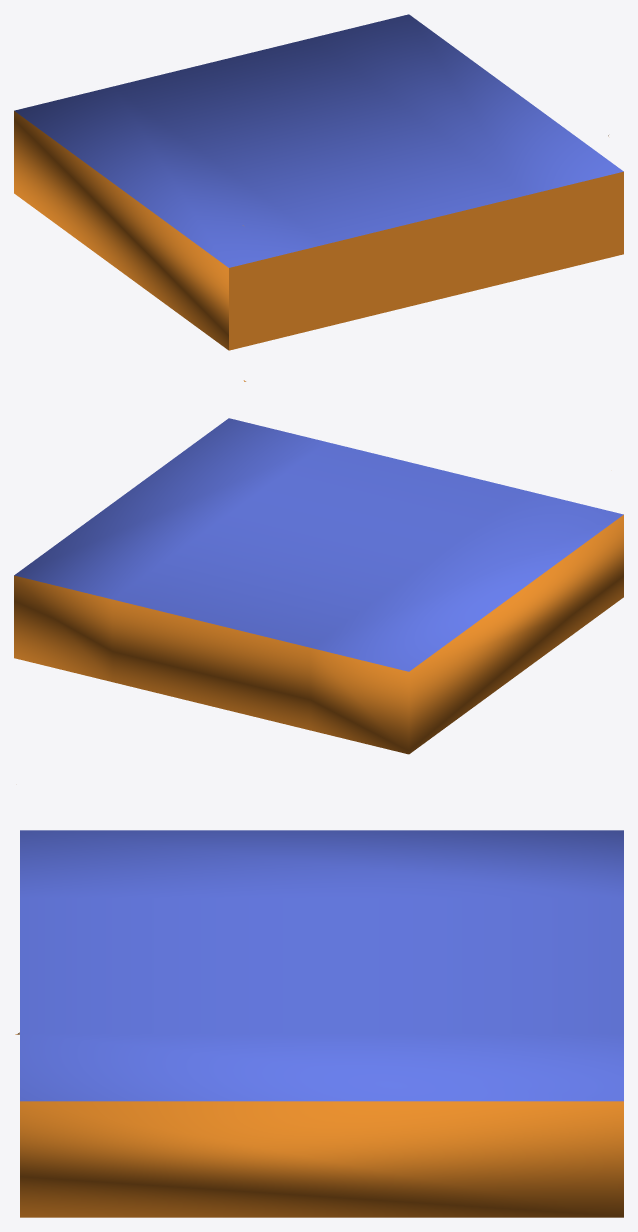
File: arena_floor_0.glb
The picture shows the model from 3 angles, top to bottom: view 1: azimuth 30°, elevation 25°; view 2: azimuth 150°, elevation 25°; view 3: azimuth 270°, elevation 25°; orthographic projection. The views are drawn at different scales.
Parts seen in each view (by area): view 1: Cube.005; view 2: Cube.005; view 3: Cube.005.
Boxes of the visible parts, x1=… form: Cube.005: x1=14, y1=14, x2=623, y2=350; Cube.005: x1=14, y1=380, x2=623, y2=754; Cube.005: x1=15, y1=830, x2=623, y2=1217.
Size of the model in its own units: 2 by 0.6037 by 1.9.
